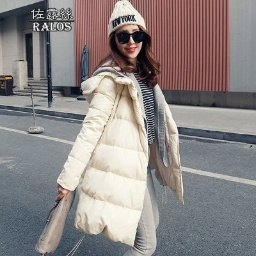face: (104, 23, 160, 80)
